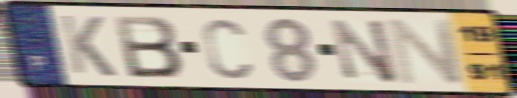8: (262, 15, 320, 84)
B: (111, 13, 186, 80)
C: (200, 16, 254, 81)
K: (56, 12, 119, 79)
N: (385, 17, 467, 87), (327, 17, 401, 85)
